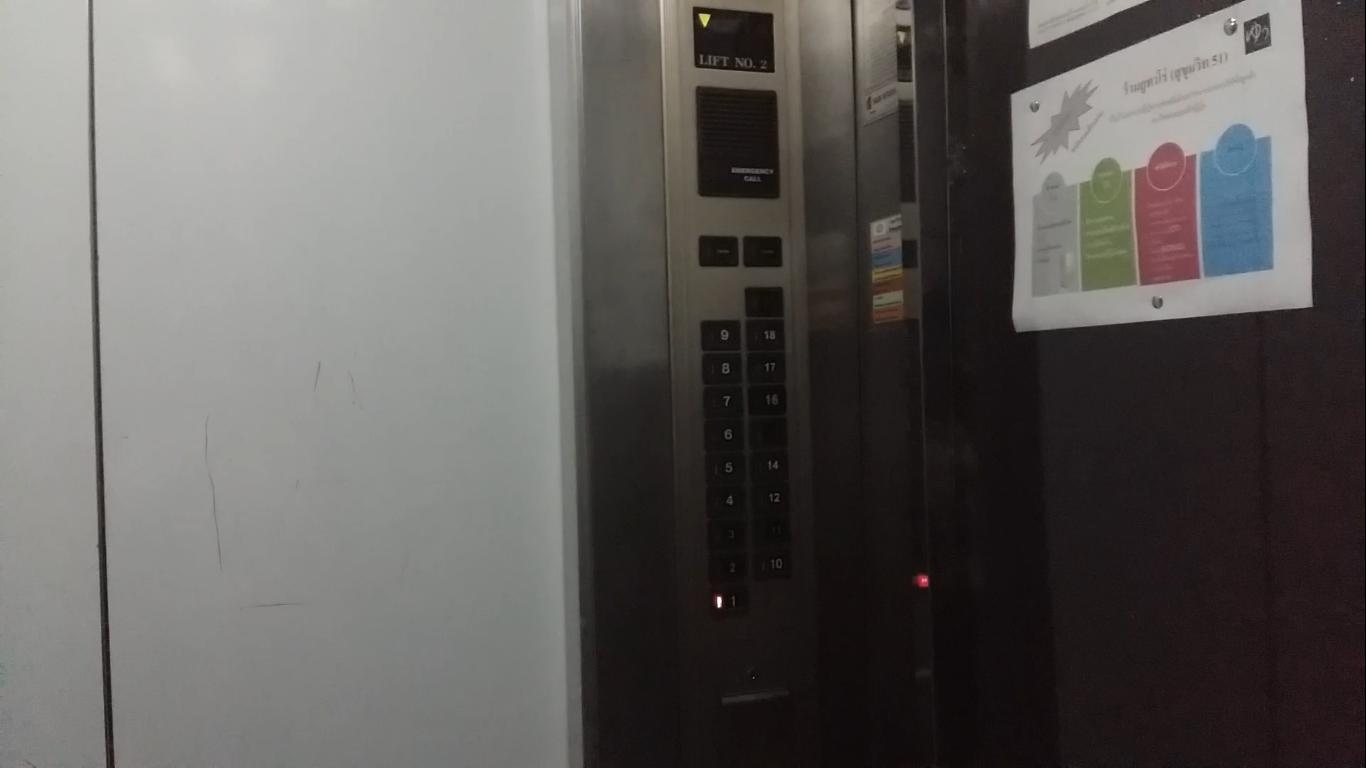1: (705, 581, 752, 621)
10: (748, 545, 796, 581)
12: (749, 482, 792, 515)
14: (748, 447, 793, 484)
16: (745, 382, 789, 418)
17: (744, 348, 789, 385)
18: (743, 315, 789, 354)
2: (705, 545, 750, 585)
3: (704, 515, 750, 547)
4: (702, 482, 749, 520)
5: (701, 450, 748, 484)
6: (699, 416, 748, 453)
7: (700, 383, 746, 419)
8: (699, 350, 744, 385)
9: (698, 317, 744, 353)
blur: (696, 233, 741, 270), (740, 234, 785, 269), (749, 514, 792, 547)
empty: (746, 414, 791, 453), (741, 285, 787, 319)
led: (689, 3, 777, 76)
